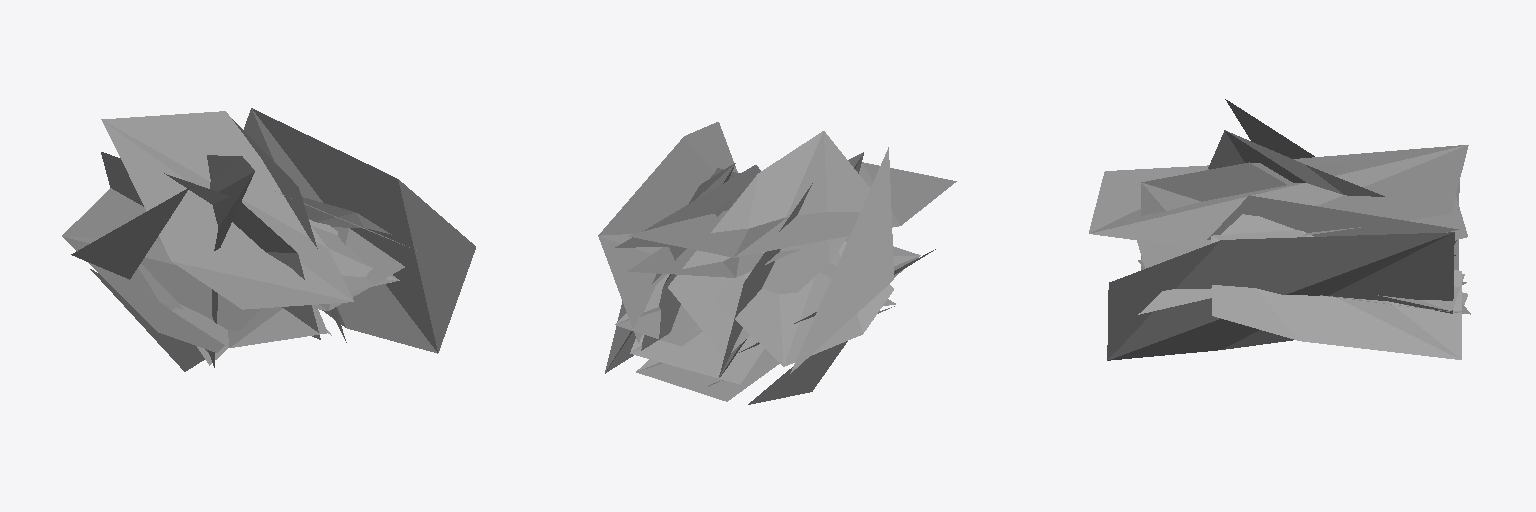
The model's file is reed.obj.
The picture shows the model from 3 angles: view 1: azimuth 30°, elevation 25°; view 2: azimuth 150°, elevation 25°; view 3: azimuth 270°, elevation 25°; orthographic projection.
Visible parts, largest first — view 1: Untitled.001_WaterReedsOne100; view 2: Untitled.001_WaterReedsOne100; view 3: Untitled.001_WaterReedsOne100.
Boxes of the visible parts, x1,y1,x2,y2 form: Untitled.001_WaterReedsOne100: [62, 108, 475, 371]; Untitled.001_WaterReedsOne100: [598, 122, 956, 404]; Untitled.001_WaterReedsOne100: [1089, 99, 1470, 360].
Size of the model in its own units: 3.89 by 3.09 by 4.78.